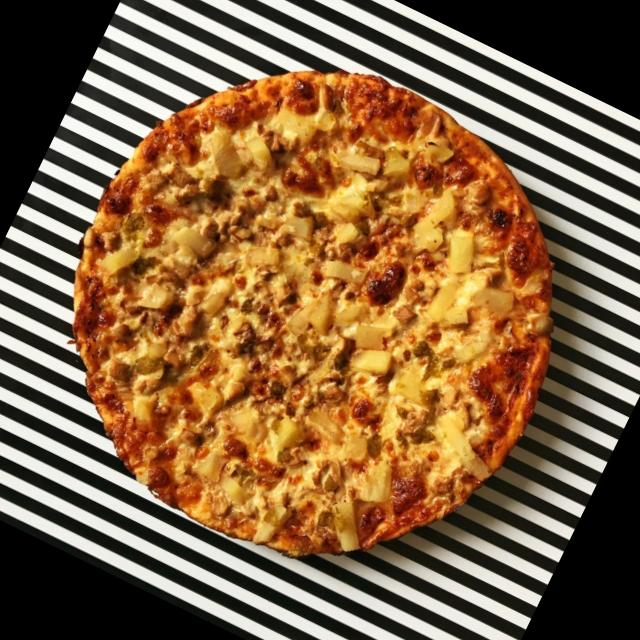pizza: (69, 69, 552, 560)
